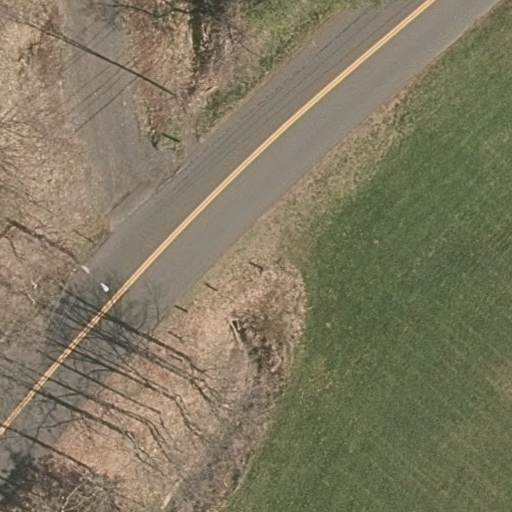DT: (75, 255, 118, 312)
